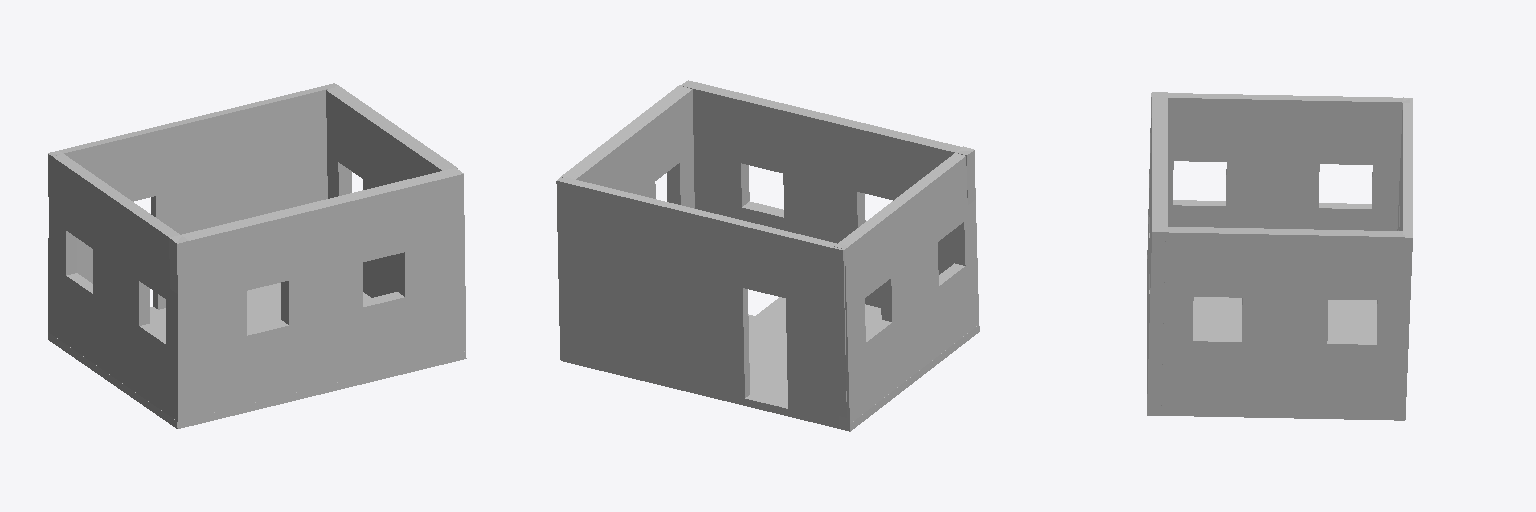
The model's file is room3.obj.
3 views of the same model, side by side, from view 1: azimuth 30°, elevation 25°; view 2: azimuth 150°, elevation 25°; view 3: azimuth 270°, elevation 25° (orthographic).
Visible parts, largest first — view 1: obj_0; view 2: obj_0; view 3: obj_0.
Boxes of the visible parts, x1,y1,x2,y2 form: obj_0: [48, 83, 466, 428]; obj_0: [556, 80, 979, 431]; obj_0: [1147, 92, 1412, 420].
Size of the model in its own units: 136 by 84.97 by 108.